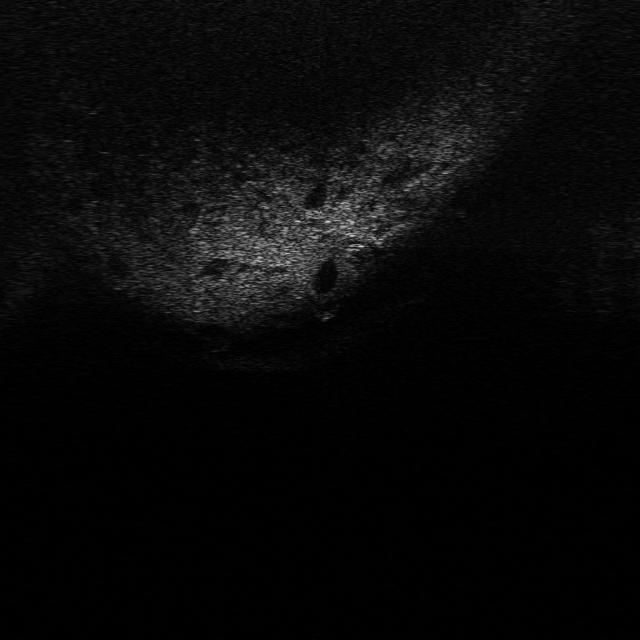ball: (308, 292, 346, 322)
